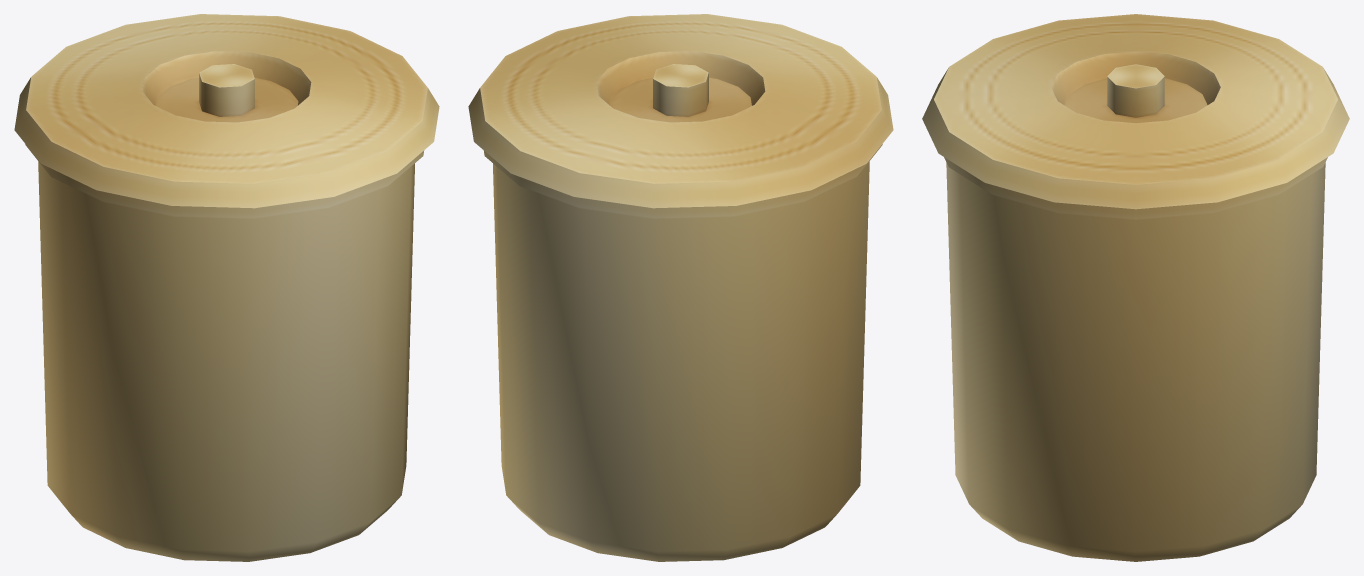
File: jsf_PolyBucketDough_03.fbx
3 renders of one model, left to right at view 1: azimuth 30°, elevation 25°; view 2: azimuth 150°, elevation 25°; view 3: azimuth 270°, elevation 25°, orthographic.
Parts seen in each view (by area): view 1: Body, Lid; view 2: Body, Lid; view 3: Body, Lid.
Boxes of the visible parts, box(x1,y1,x2,y2) form: Body: box(25, 144, 424, 561); Lid: box(14, 14, 439, 208); Body: box(483, 144, 882, 561); Lid: box(468, 14, 893, 208); Body: box(944, 157, 1327, 561); Lid: box(922, 14, 1349, 209).
Bounding box in the file's own units: 34.91 × 37.41 × 34.91.
